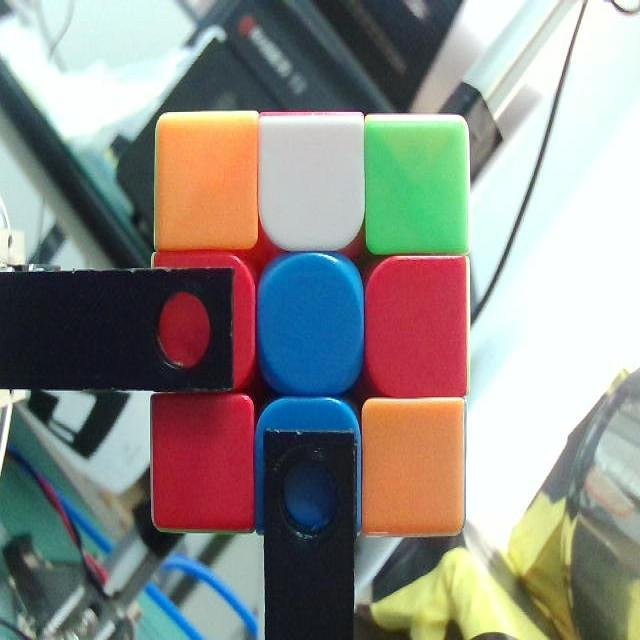b: (259, 403, 359, 533), (259, 262, 359, 389)
g: (371, 124, 464, 241)
o: (163, 117, 255, 248), (366, 406, 462, 526)
r: (161, 256, 253, 380), (373, 268, 462, 395), (158, 402, 246, 526)
w: (265, 116, 361, 247)
